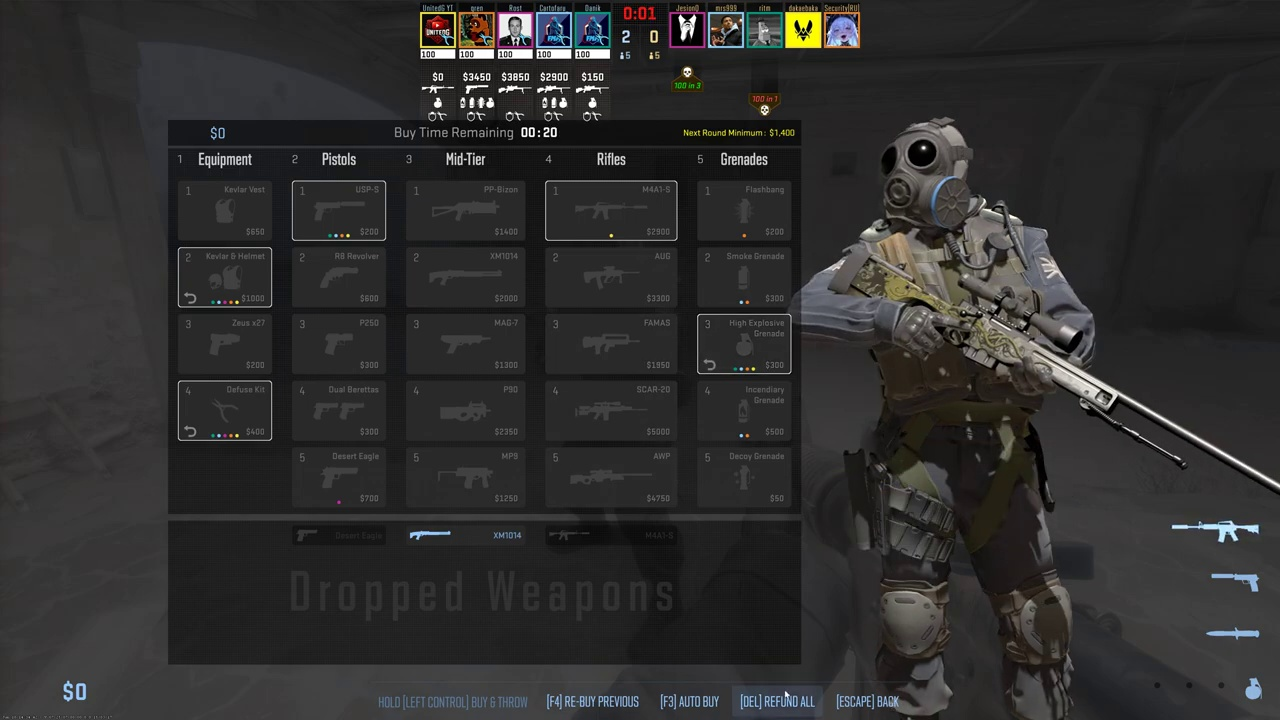CT: (858, 119, 1075, 720)
